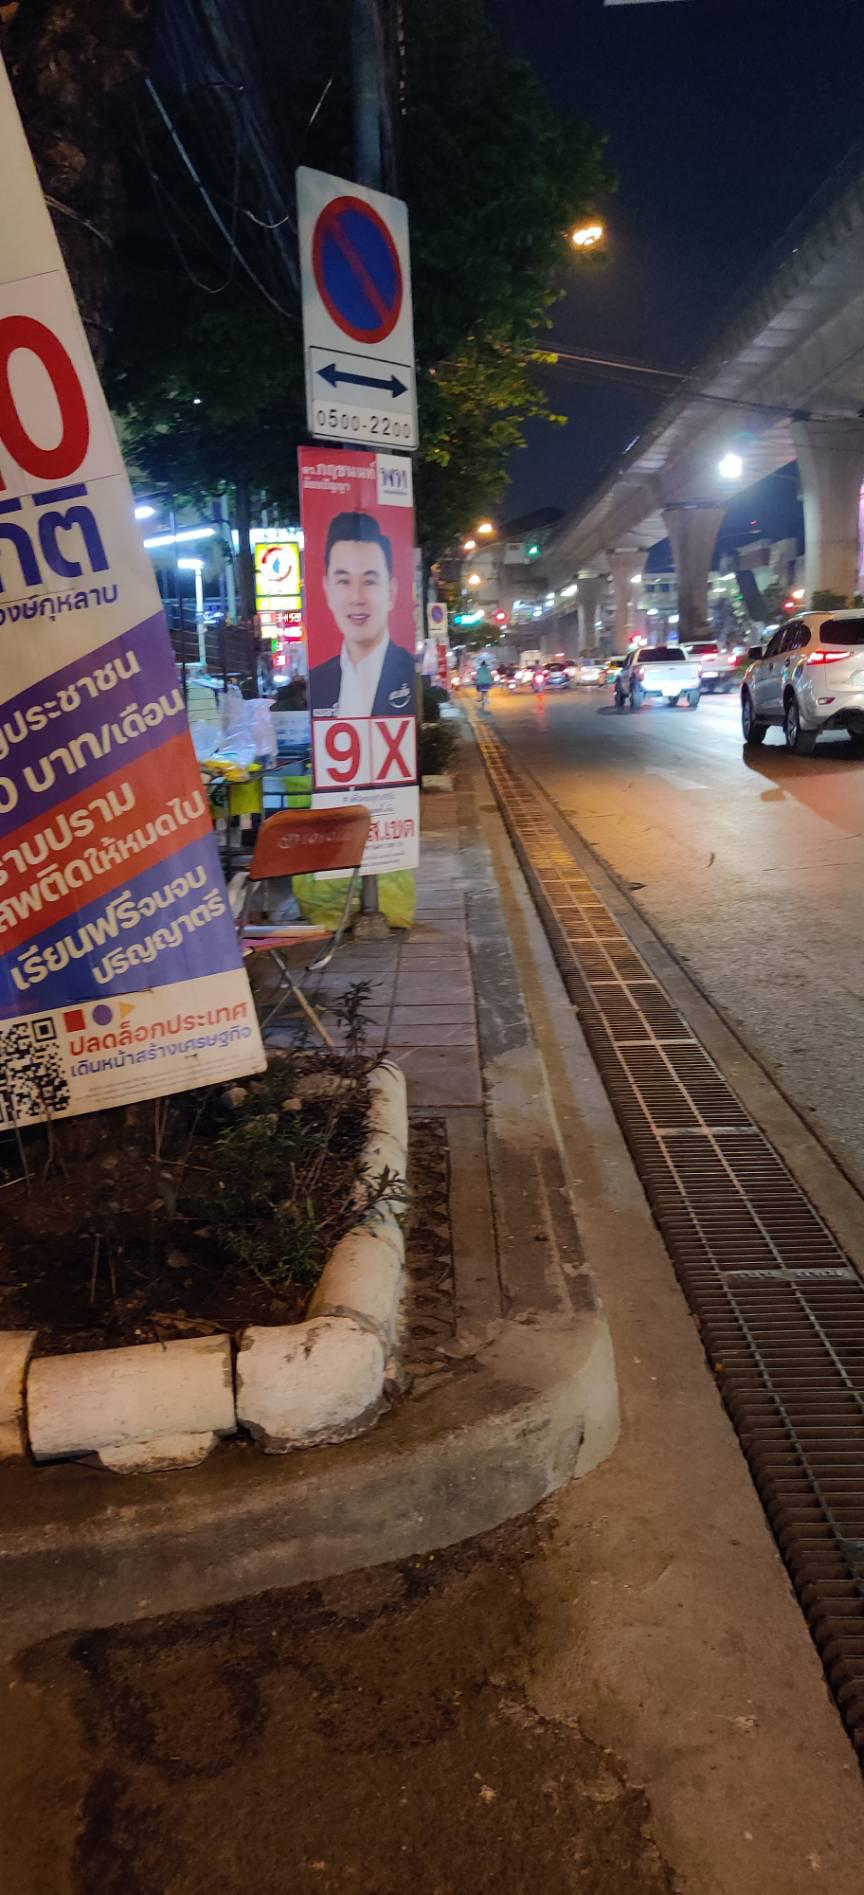Banner: (305, 441, 425, 923)
